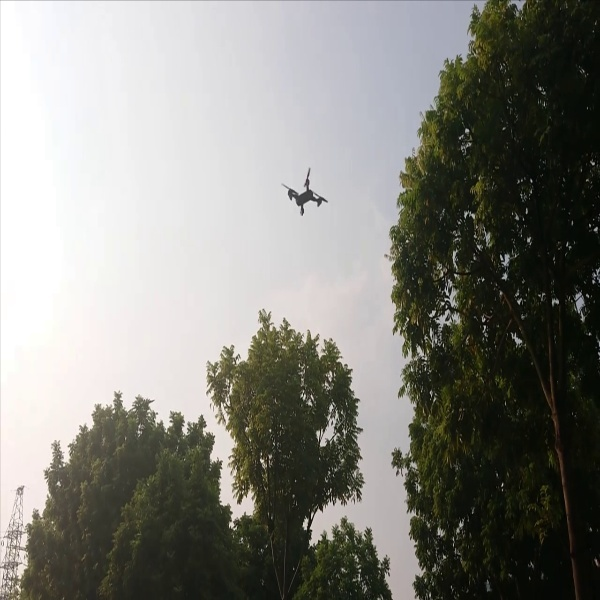drone: (280, 164, 332, 219)
